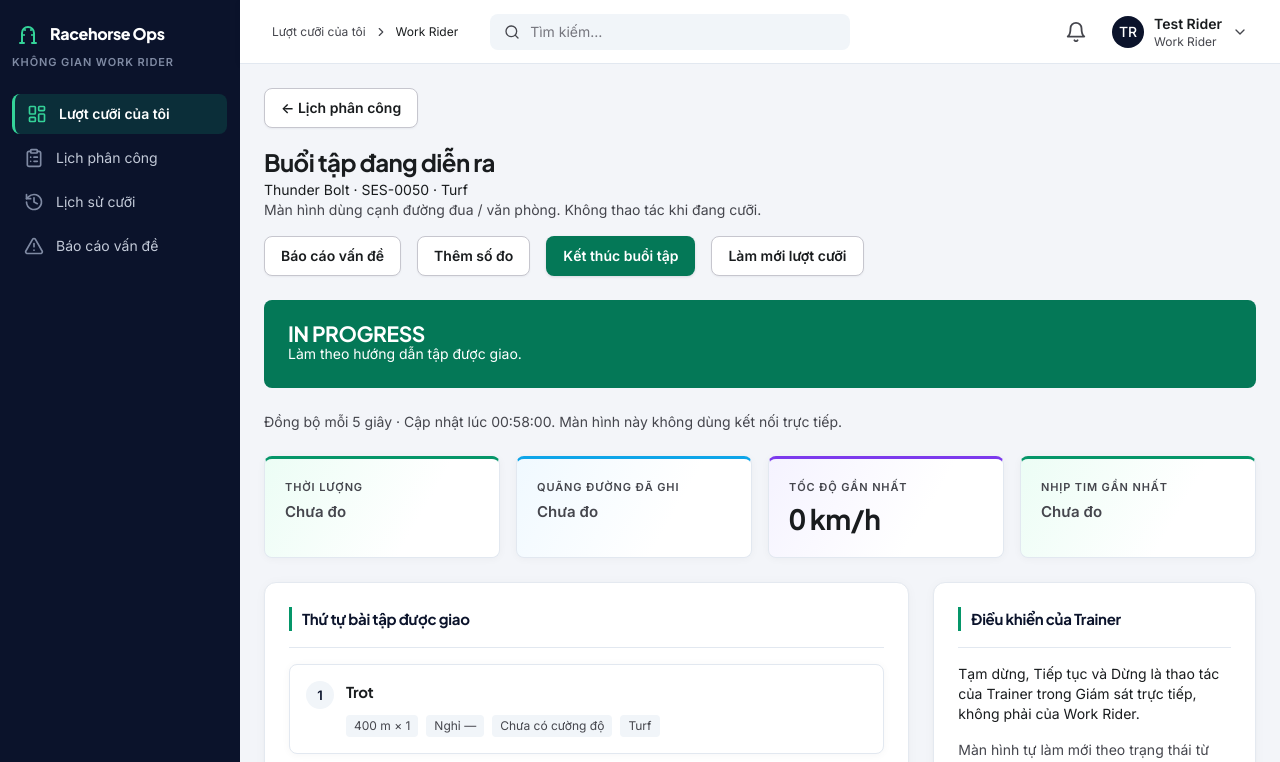
Test: disables execution actions when REST synchronization fails and hides a newly forbidden ride
Expected: the button "Kết thúc buổi tập" is shown, [546,236,695,276]
Click the button "Làm mới lượt cưỡi": coordinates (788, 256) [712,236,864,276]
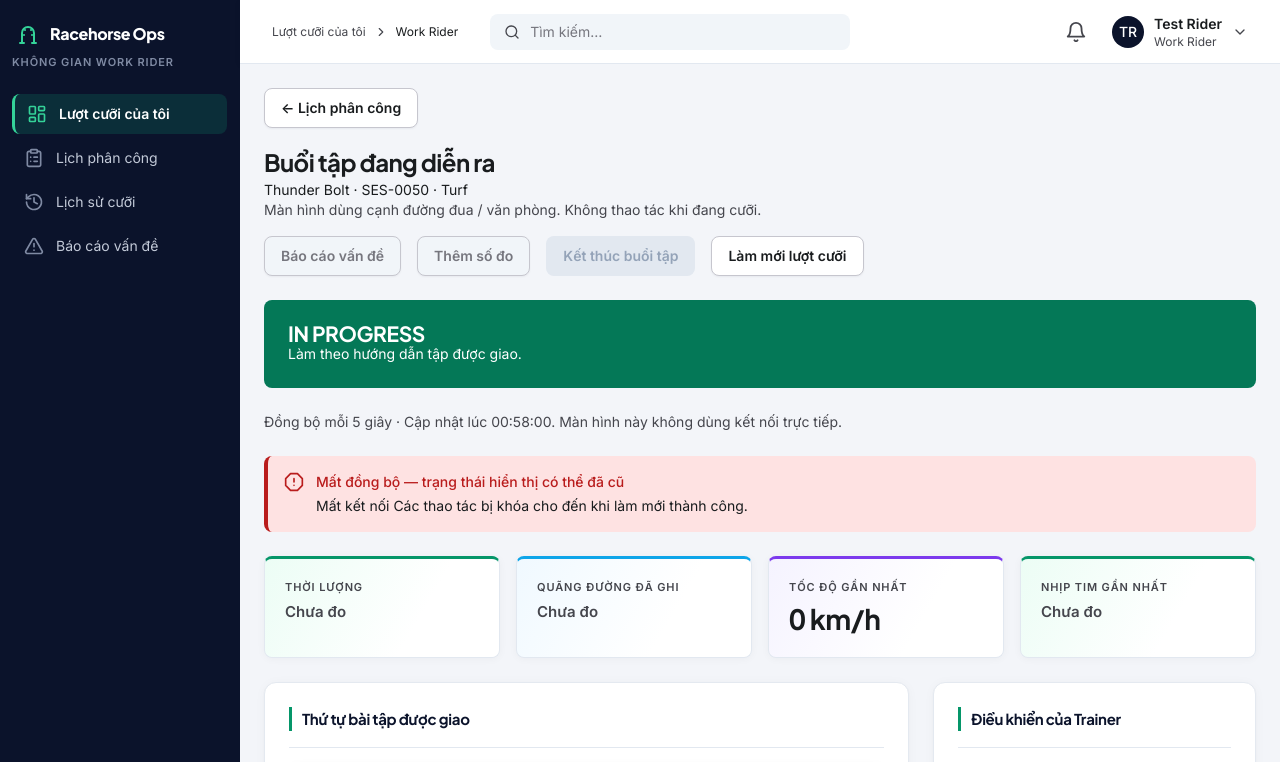
Result: the text "Mất đồng bộ — trạng thái hiển thị có thể đã cũ" is shown at [316,473,624,490]
Result: the button "Kết thúc buổi tập" is disabled at [546,236,695,276]
Click the button "Làm mới lượt cưỡi": coordinates (788, 256) [712,236,864,276]
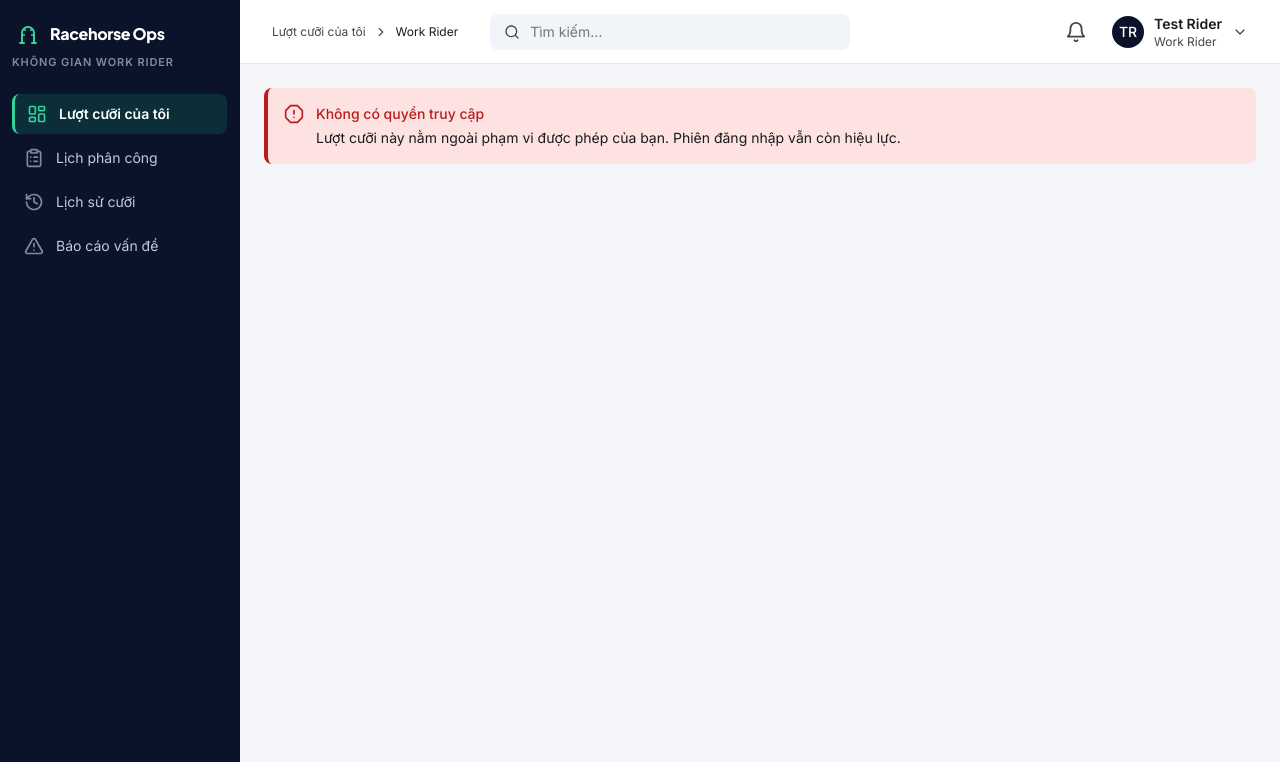
Result: the text "Lượt cưỡi này nằm ngoài phạm vi được phép của bạn. Phiên đăng nhập vẫn còn hiệu lực." is shown at [316,129,901,146]
Result: the button "Kết thúc buổi tập" is gone
